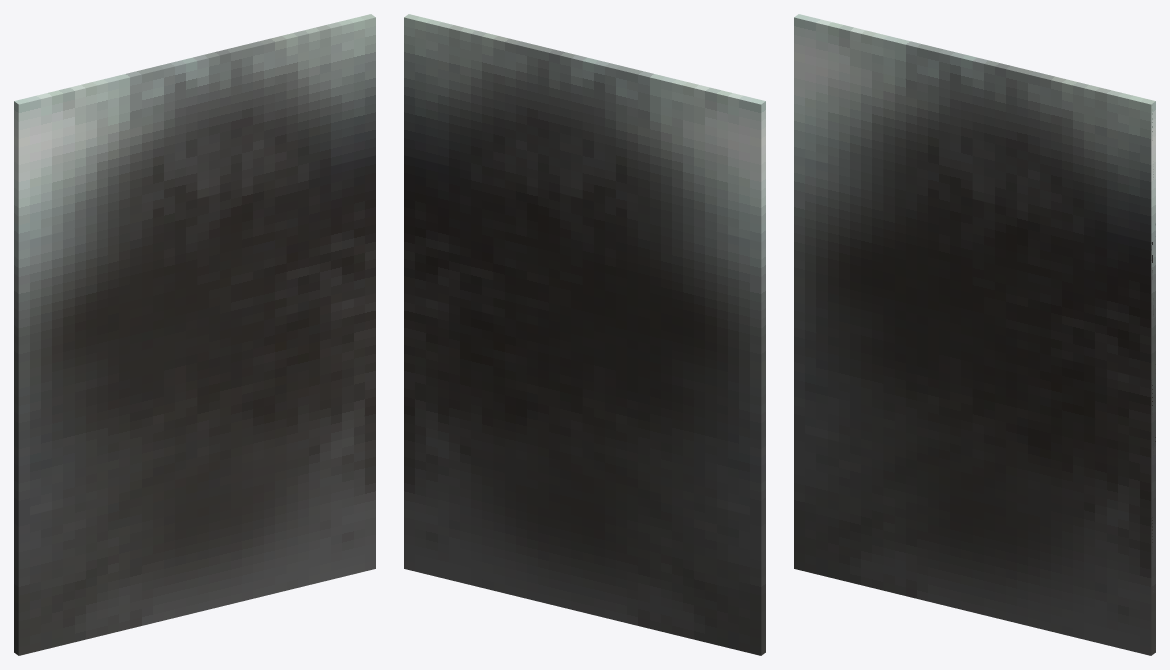
Rendered from mirror.obj.
The picture shows the model from 3 angles, left to right: view 1: azimuth 30°, elevation 25°; view 2: azimuth 150°, elevation 25°; view 3: azimuth 330°, elevation 25°; orthographic projection.
Parts seen in each view (by area): view 1: Plane001; view 2: Plane001; view 3: Plane001.
Boxes of the visible parts, bbox=[...] form: Plane001: bbox=[14, 14, 375, 655]; Plane001: bbox=[404, 14, 765, 655]; Plane001: bbox=[794, 14, 1155, 655].
Size of the model in its own units: 43.42 by 64.07 by 1.
